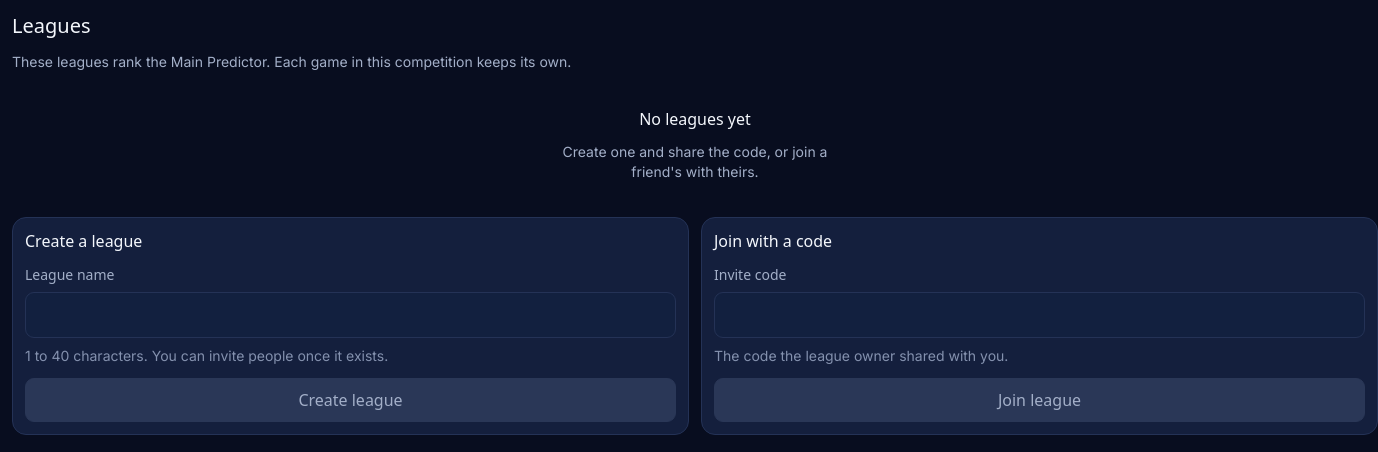
Test: the competition leagues surface › separates an unknown code from a league in another game
The image size is (1378, 452).
Check: the text "No leagues yet" is shown, box x1=639 y1=108 x2=751 y2=130
In the field labelled "Invite code": [1040, 315] box x1=715 y1=293 x2=1364 y2=337, type "NOPE99"
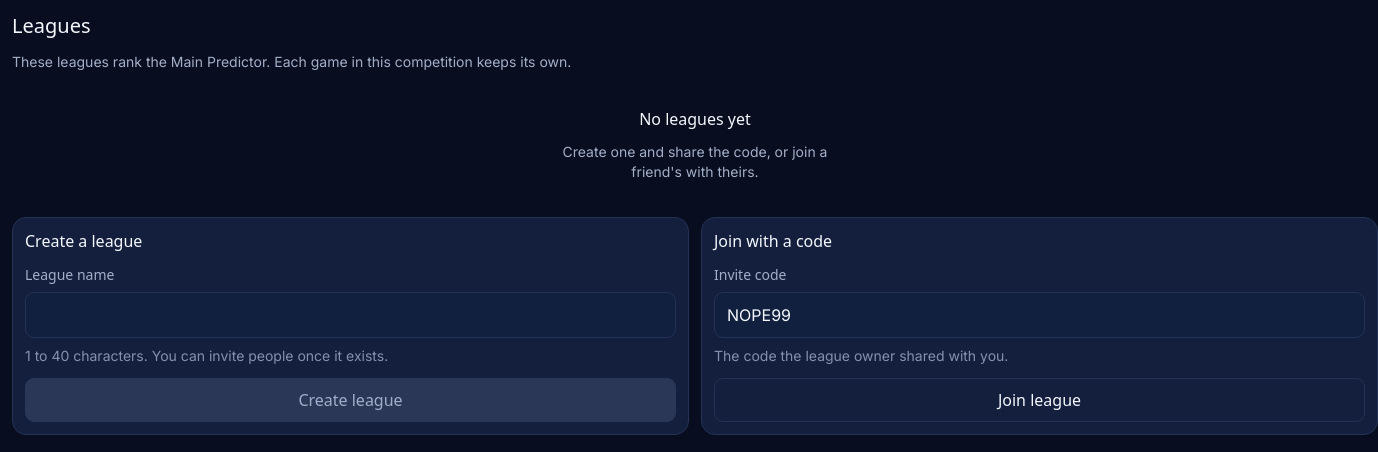
Click the button "Join league": [1040, 400] box x1=714 y1=378 x2=1365 y2=422
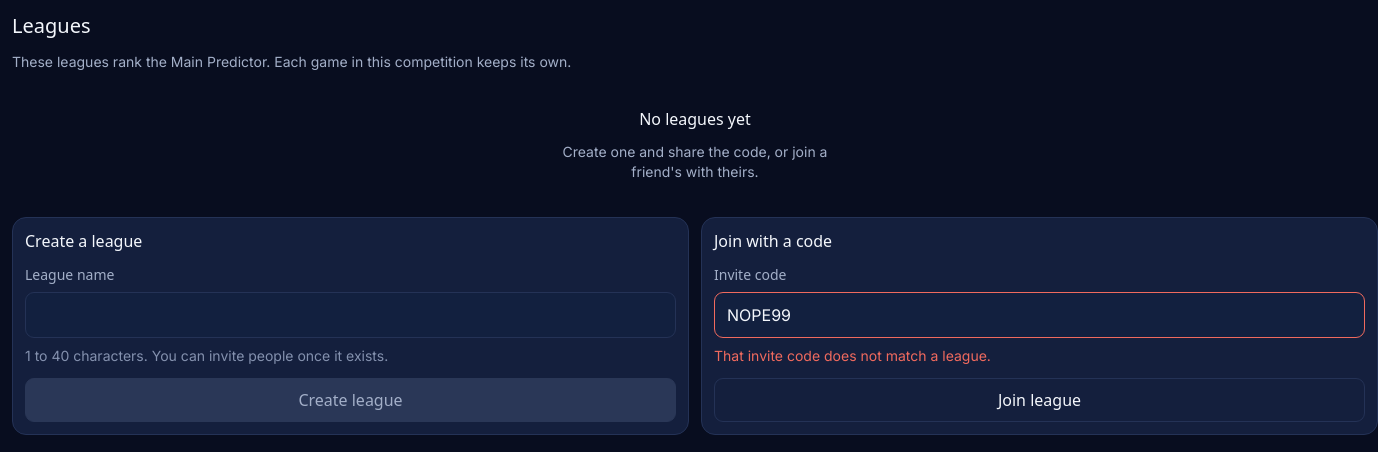
Check: the text "That invite code does not match a league." is shown, box x1=714 y1=347 x2=991 y2=364
